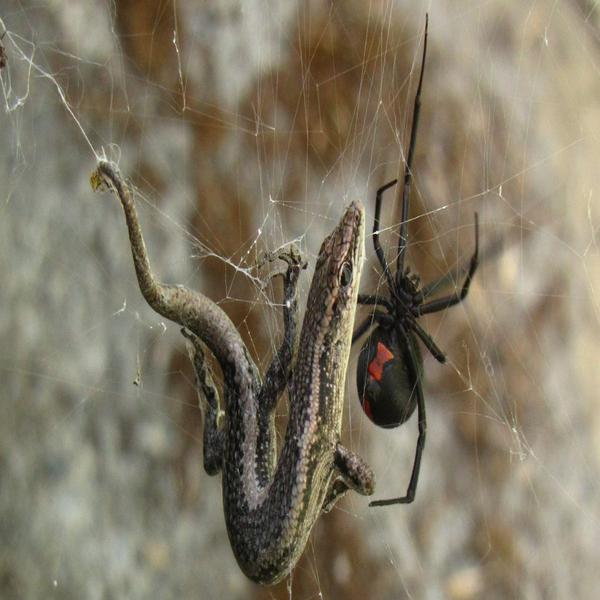Redback Spider: (341, 14, 479, 508)
